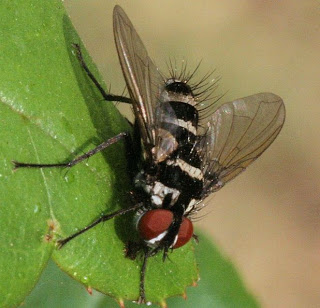house fly: (12, 2, 290, 303)
